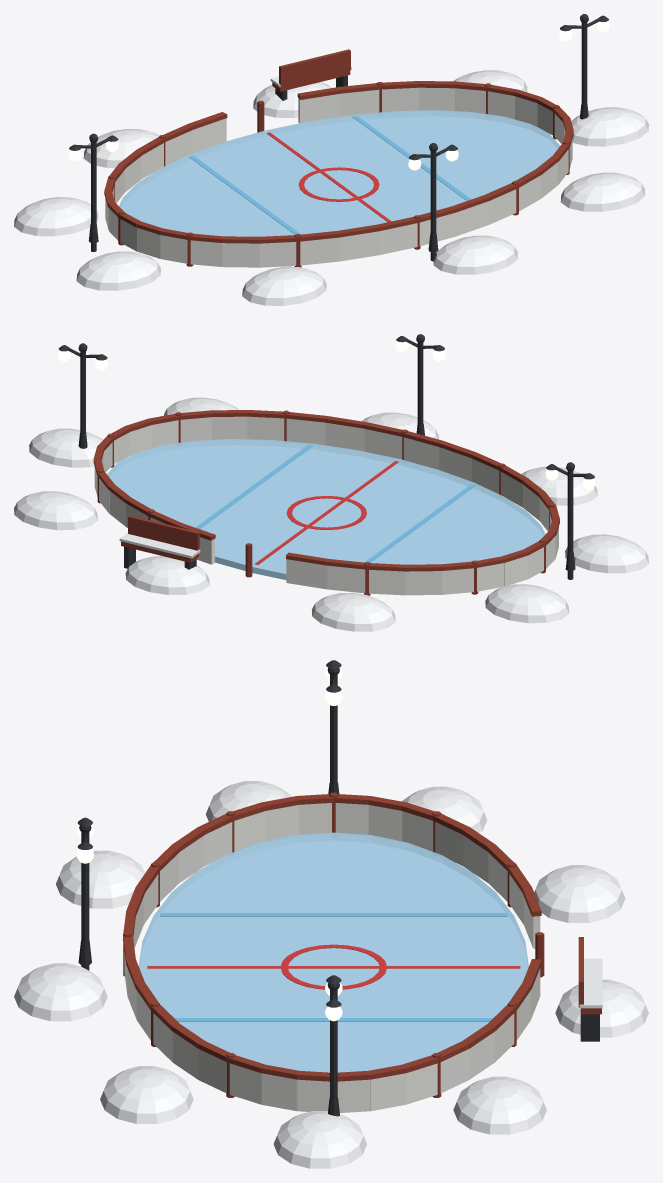
File: IceRink.fbx
3 views of the same model, one above another, from view 1: azimuth 30°, elevation 25°; view 2: azimuth 150°, elevation 25°; view 3: azimuth 270°, elevation 25° (orthographic). The views are drawn at different scales.
Parts seen in each view (by area): view 1: IceRink_Ice, IceRink_White, IceRink_Snow, IceRink_WoodRed, IceRink_Charcoal, IceRink_Red, IceRink_SkyBlue, IceRink_WindowGlow; view 2: IceRink_Ice, IceRink_Snow, IceRink_White, IceRink_WoodRed, IceRink_Charcoal, IceRink_Red, IceRink_SkyBlue, IceRink_WindowGlow; view 3: IceRink_Ice, IceRink_Snow, IceRink_White, IceRink_WoodRed, IceRink_Charcoal, IceRink_SkyBlue, IceRink_Red, IceRink_WindowGlow.
Part boxes in pixels (bbox=[...]): IceRink_Ice: bbox=[119, 110, 559, 236]; IceRink_White: bbox=[105, 87, 572, 267]; IceRink_Snow: bbox=[14, 67, 648, 305]; IceRink_WoodRed: bbox=[104, 49, 573, 267]; IceRink_Charcoal: bbox=[69, 14, 608, 261]; IceRink_Red: bbox=[266, 132, 391, 221]; IceRink_SkyBlue: bbox=[189, 115, 471, 234]; IceRink_WindowGlow: bbox=[68, 21, 609, 170]; IceRink_Ice: bbox=[107, 439, 545, 579]; IceRink_Snow: bbox=[14, 397, 648, 631]; IceRink_White: bbox=[94, 416, 558, 595]; IceRink_WoodRed: bbox=[93, 410, 559, 595]; IceRink_Charcoal: bbox=[58, 334, 594, 579]; IceRink_Red: bbox=[255, 461, 398, 564]; IceRink_SkyBlue: bbox=[195, 444, 475, 562]; IceRink_WindowGlow: bbox=[58, 341, 595, 489]; IceRink_Ice: bbox=[138, 832, 528, 1072]; IceRink_Snow: bbox=[14, 781, 648, 1168]; IceRink_White: bbox=[124, 803, 540, 1112]; IceRink_WoodRed: bbox=[123, 792, 601, 1097]; IceRink_Charcoal: bbox=[77, 660, 599, 1116]; IceRink_SkyBlue: bbox=[160, 913, 507, 1021]; IceRink_Red: bbox=[147, 944, 520, 989]; IceRink_WindowGlow: bbox=[76, 667, 342, 1021].
Size of the model in its own units: 50.52 by 9.55 by 35.77.
